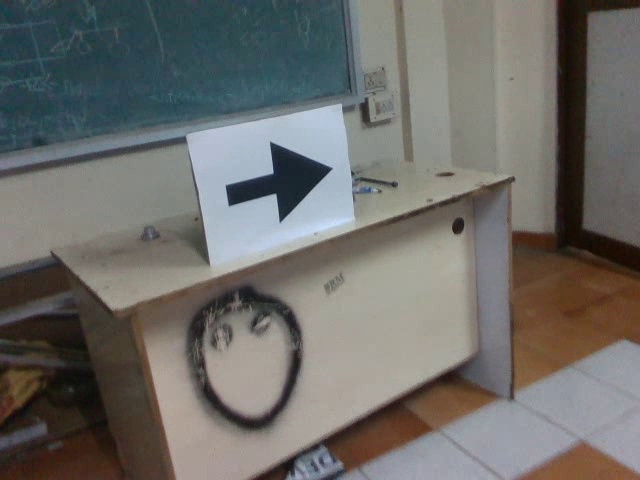Right: (218, 137, 335, 225)
